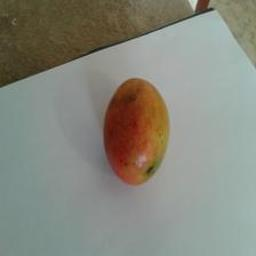Mango Semifresh: (91, 68, 172, 195)
